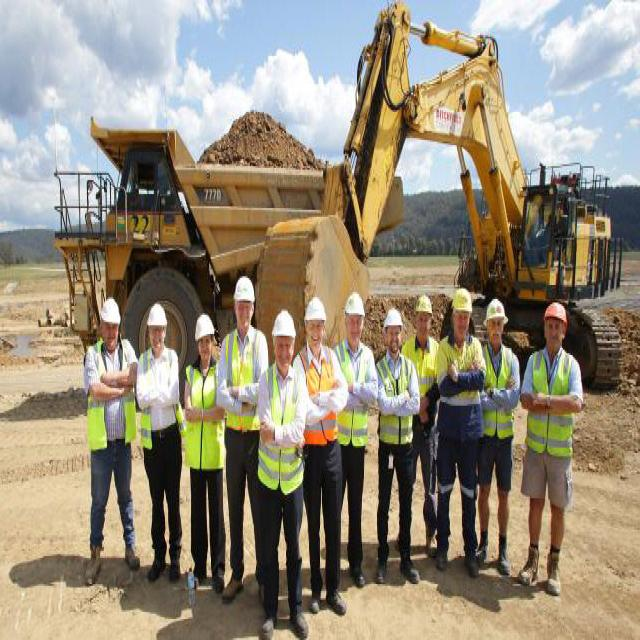dump_truck: (49, 91, 381, 360)
excavator: (259, 3, 639, 390)
